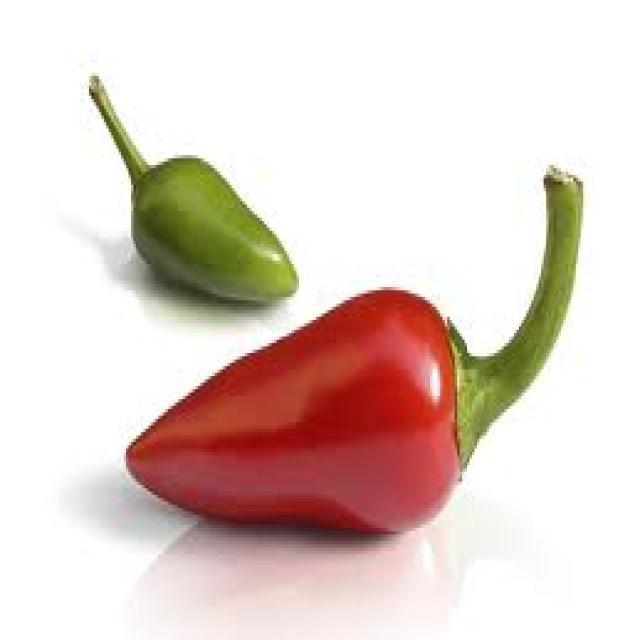chili: (52, 59, 586, 584)
